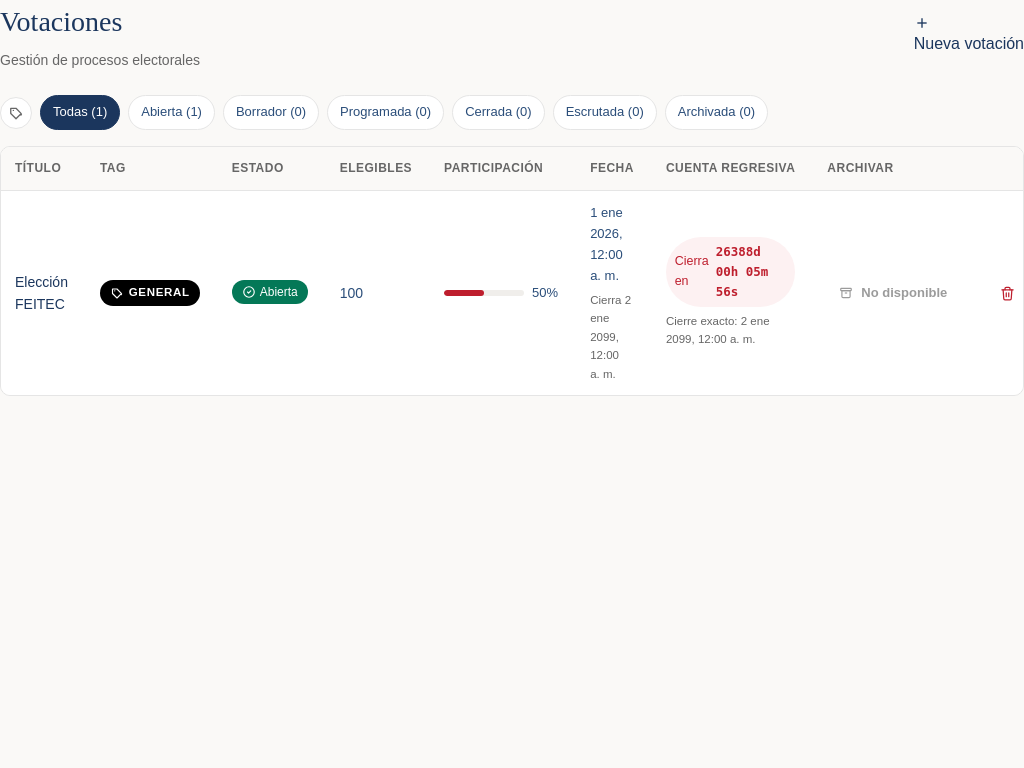
Test: EleccionesPage › opens delete modal for high severity elections
The width and height of the screenshot is (1024, 768).
Expected: the text "Elección FEITEC" is shown, [15,271,68,316]
What coordinates should you click on to do the following:
click the button named "Eliminar votación"
I would click on:
 (1007, 293)
Its box is [991,277,1023,309].
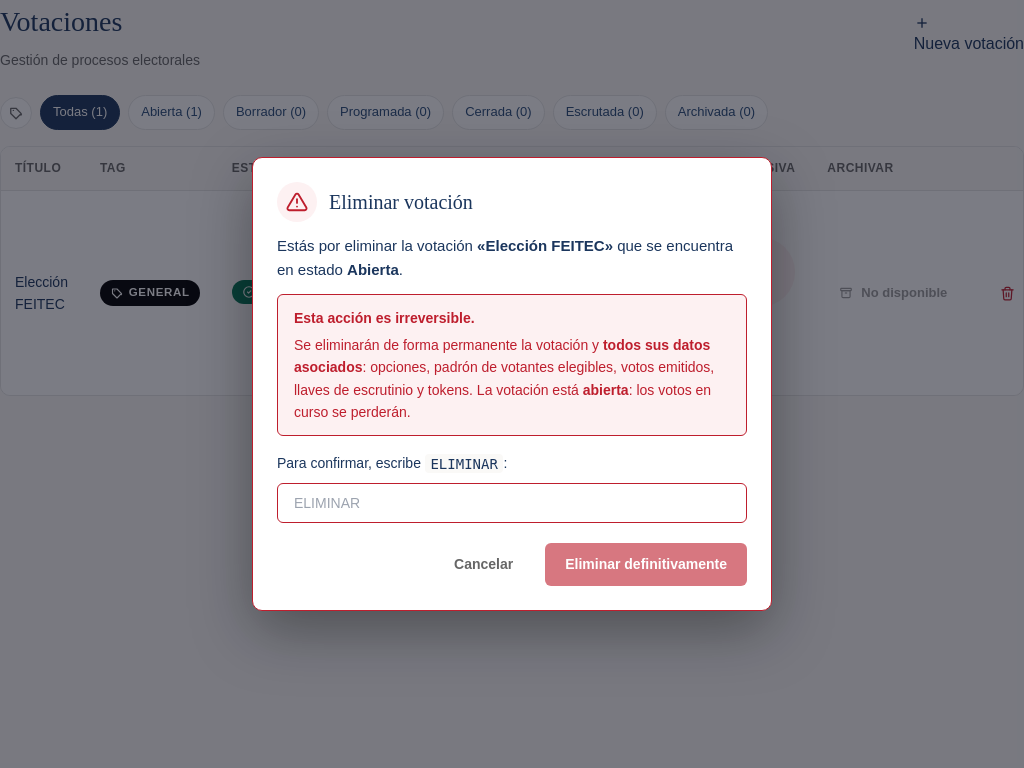
Now the heading "Eliminar votación" is shown, box [329,186,473,218]
Now the text "Esta acción es irreversible." is shown, box [294,310,475,326]
